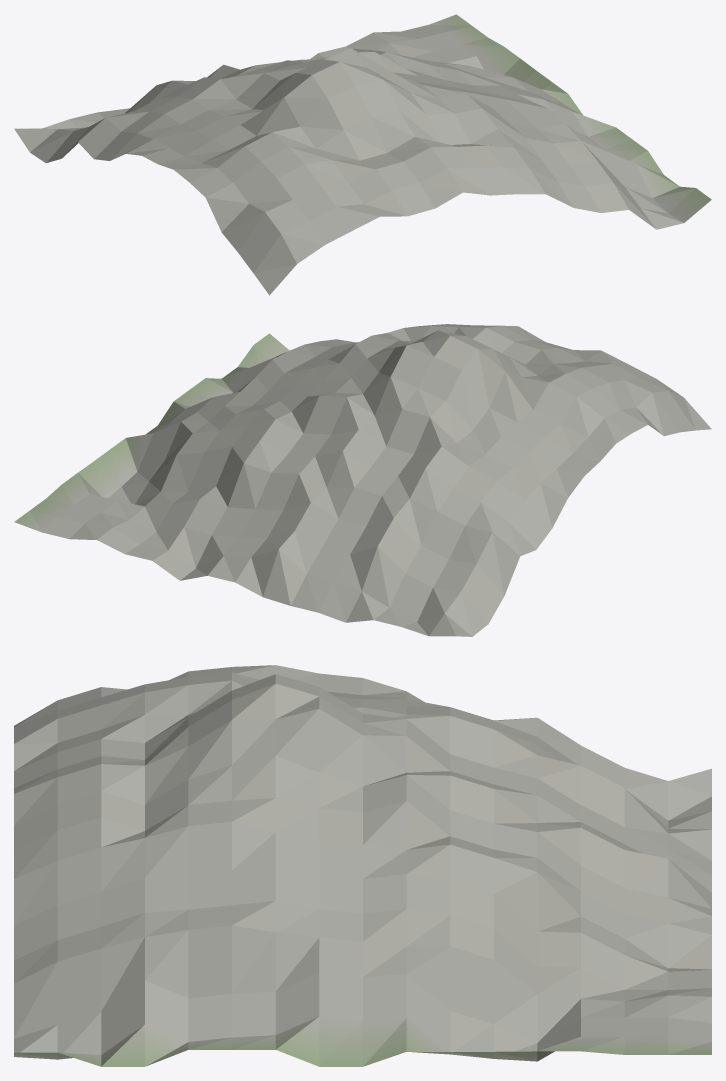
3 renders of one model, top to bottom at view 1: azimuth 30°, elevation 25°; view 2: azimuth 150°, elevation 25°; view 3: azimuth 270°, elevation 25°, orthographic. The views are drawn at different scales.
Bounding box in the file's own units: 32 × 10.83 × 32.
